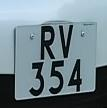3: (26, 61, 48, 98)
4: (66, 58, 86, 93)
5: (46, 59, 68, 97)
R: (37, 23, 58, 65)
V: (56, 22, 76, 61)
